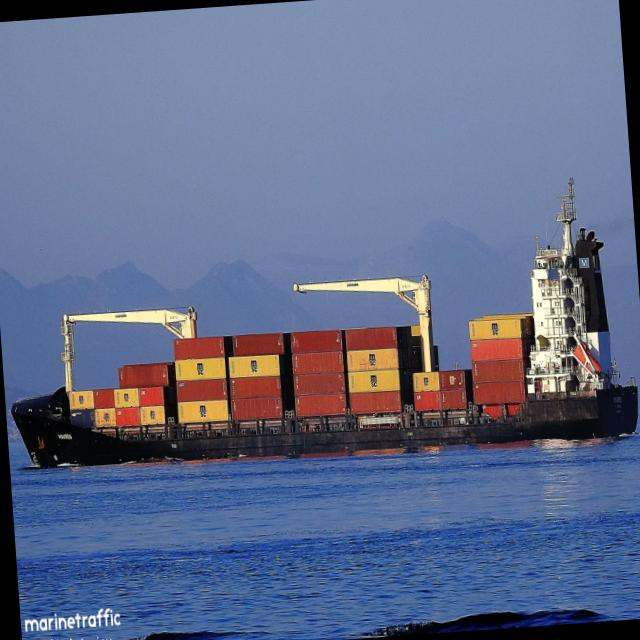Cargo: (10, 177, 637, 466)
